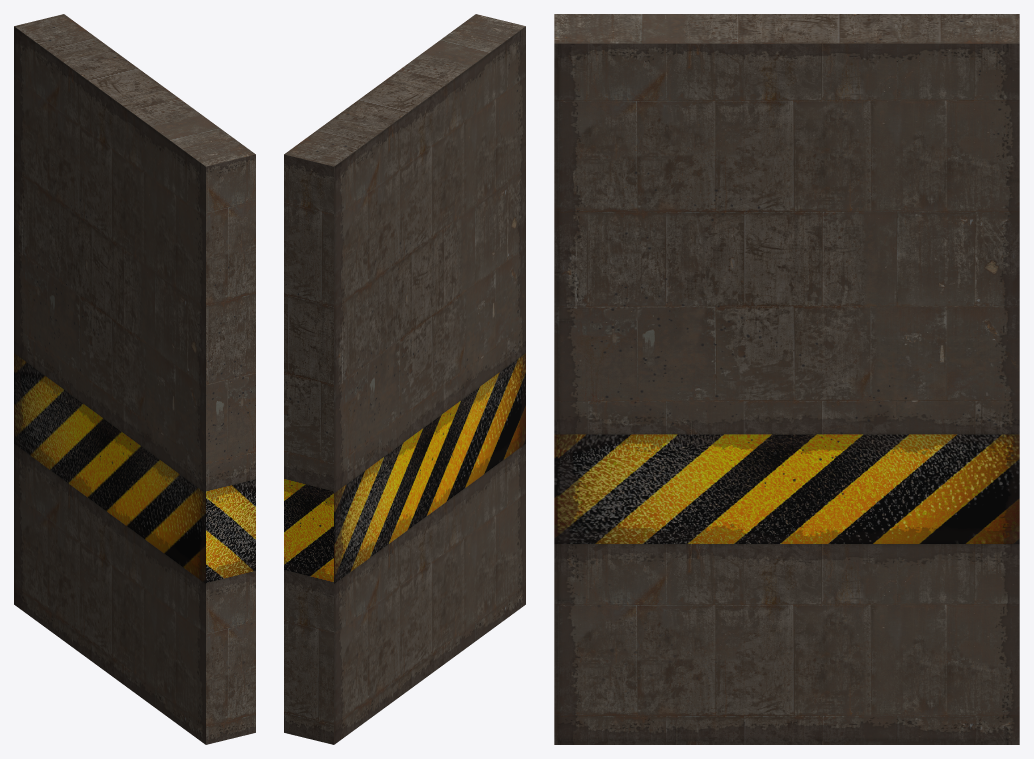
File: FnafDoor.fbx
3 renders of one model, left to right at view 1: azimuth 30°, elevation 25°; view 2: azimuth 150°, elevation 25°; view 3: azimuth 270°, elevation 25°, orthographic. The views are drawn at different scales.
Parts seen in each view (by area): view 1: Cube; view 2: Cube; view 3: Cube.
Part boxes in pixels (<box>): Cube: <box>14,14,255,744</box>; Cube: <box>284,14,525,744</box>; Cube: <box>554,14,1019,744</box>.
Bounding box in the file's own units: 53.37 × 589 × 354.
